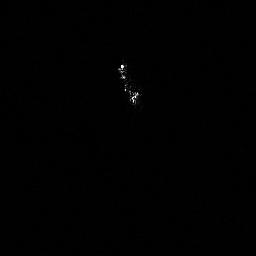ship: (116, 61, 141, 106)
